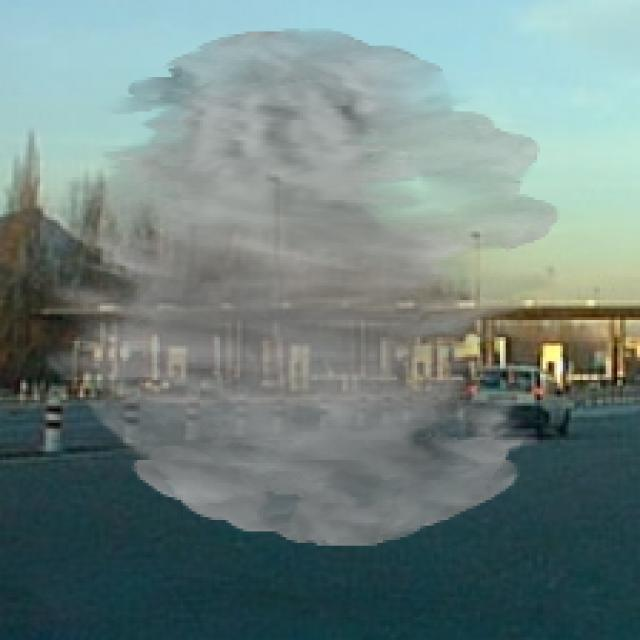Smoke: (37, 28, 560, 546)
